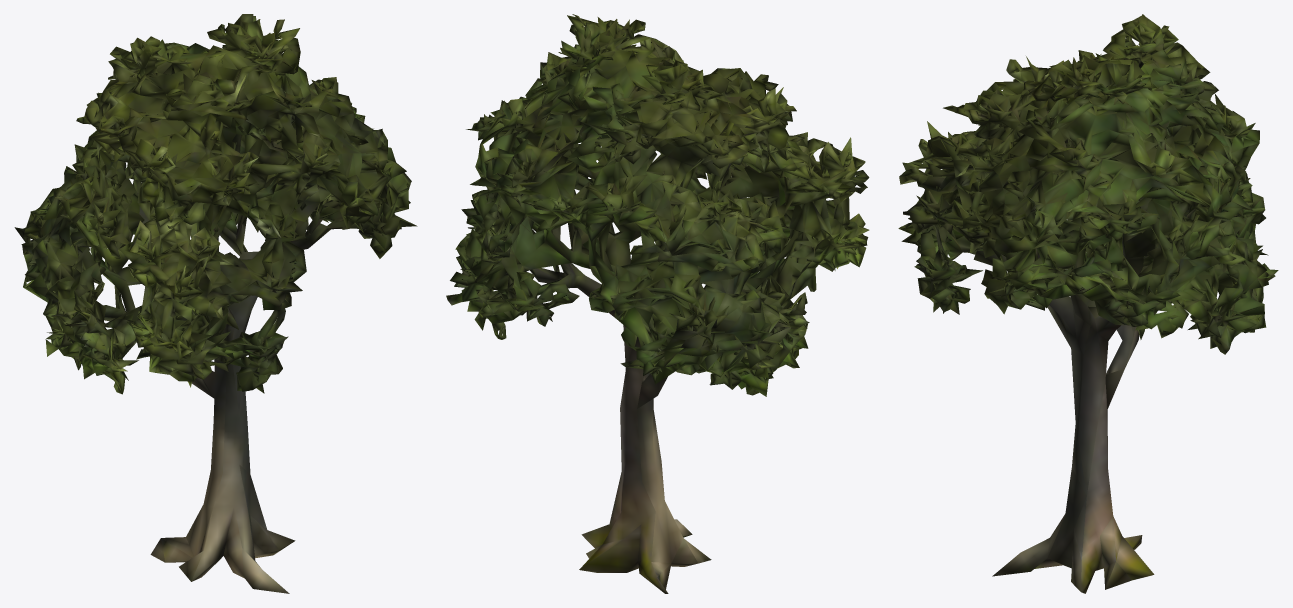
Rendered from tree2.glb.
The picture shows the model from 3 angles, left to right: view 1: azimuth 30°, elevation 25°; view 2: azimuth 150°, elevation 25°; view 3: azimuth 270°, elevation 25°; orthographic projection. The views are drawn at different scales.
Bounding box in the file's own units: 1.25 × 1.99 × 1.29.
1 material, 1 textured.
